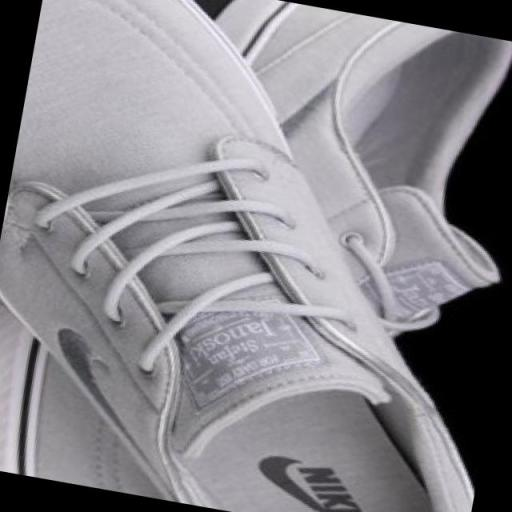Nike: (250, 451, 331, 512), (287, 461, 376, 512)
